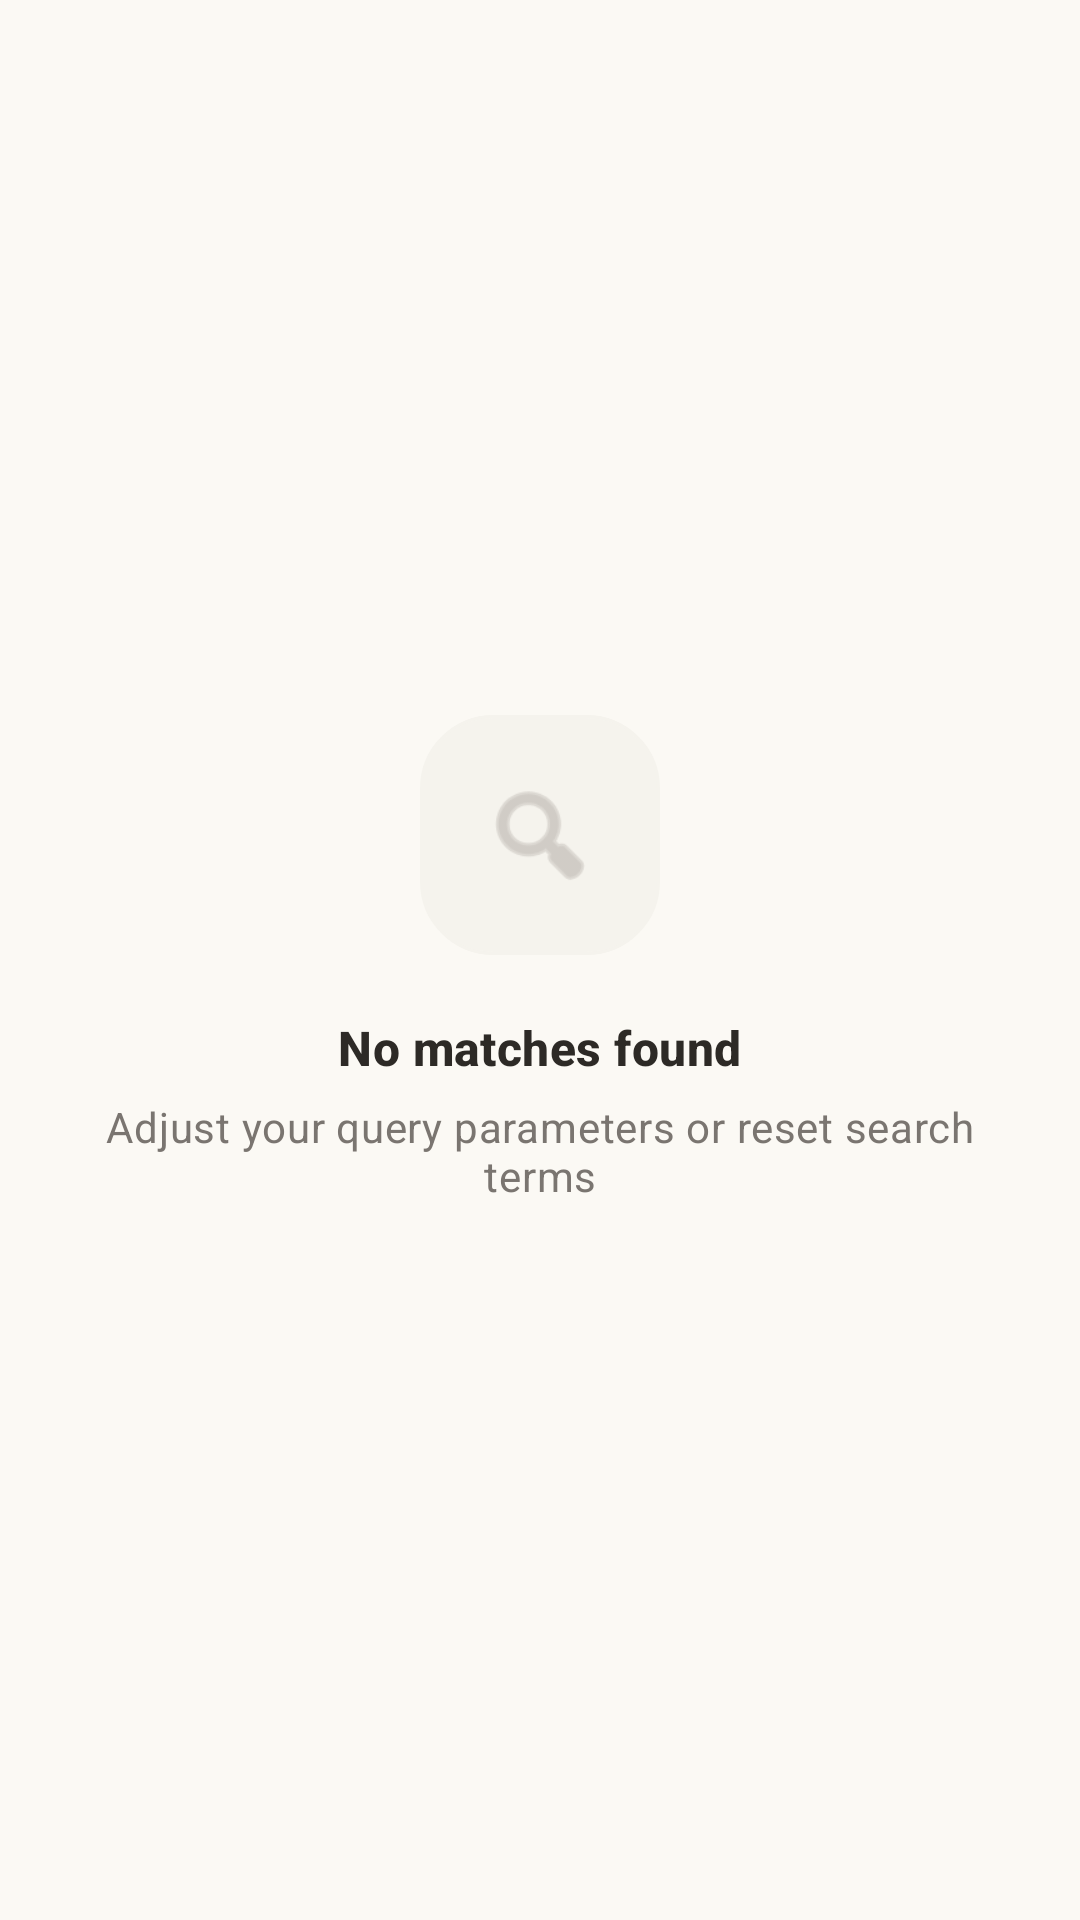

Where icons sit on this 1080px x 1920px app screen, as (x1, y1, x2, y2):
search: (497, 792, 583, 879)
